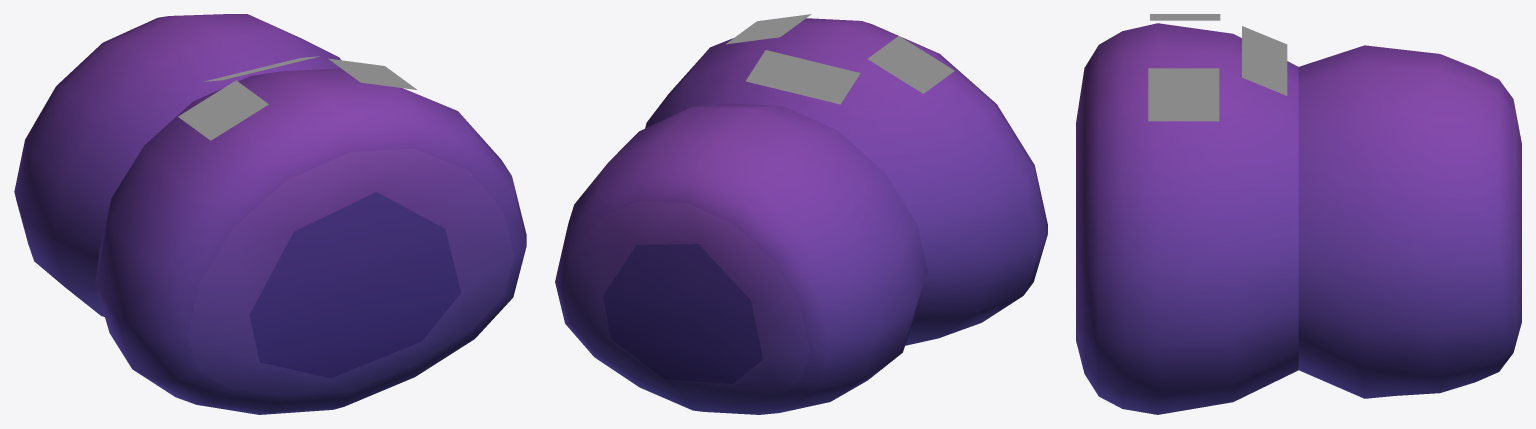
Rendered from sweet_tube_half_violet_smile.fbx.
3 views of the same model, side by side, from view 1: azimuth 30°, elevation 25°; view 2: azimuth 150°, elevation 25°; view 3: azimuth 270°, elevation 25° (orthographic). The views are drawn at different scales.
Visible parts, largest first — view 1: pie_half_violet, smile_pie; view 2: pie_half_violet, smile_pie; view 3: pie_half_violet, smile_pie.
Boxes of the visible parts, <box> form: pie_half_violet: <box>14,14,526,414</box>; smile_pie: <box>178,56,416,140</box>; pie_half_violet: <box>555,18,1047,414</box>; smile_pie: <box>726,14,954,104</box>; pie_half_violet: <box>1076,23,1521,414</box>; smile_pie: <box>1148,14,1287,121</box>.
Bounding box in the file's own units: 34.33 × 25.87 × 30.95.
